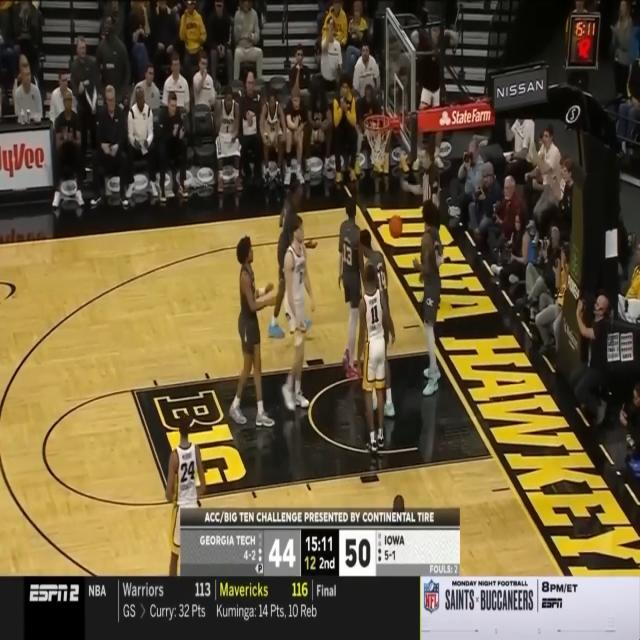Ball: (388, 215, 404, 239)
Clock: (567, 15, 601, 68)
Hoop: (364, 114, 391, 170)
Overlay: (0, 576, 640, 640), (180, 508, 461, 576)
Player: (228, 234, 278, 430), (268, 174, 318, 342), (354, 264, 396, 454), (167, 415, 205, 604), (358, 227, 395, 419), (281, 216, 315, 412), (412, 201, 443, 397), (337, 196, 366, 387)
Ref: (402, 146, 441, 296), (378, 494, 419, 633)
Scoreboard: (180, 532, 460, 576)
